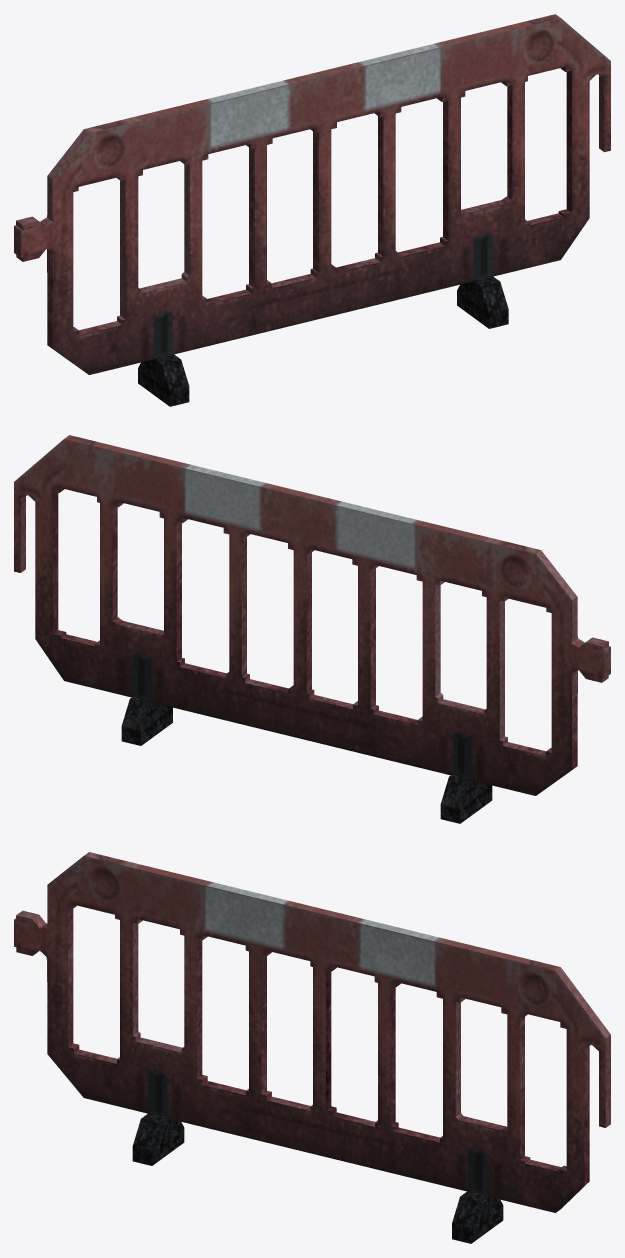
File: SM_EC_Traffic_Block_2.fbx
The picture shows the model from 3 angles, top to bottom: view 1: azimuth 30°, elevation 25°; view 2: azimuth 150°, elevation 25°; view 3: azimuth 330°, elevation 25°; orthographic projection.
Parts seen in each view (by area): view 1: SM_EC_Traffic_Block_2; view 2: SM_EC_Traffic_Block_2; view 3: SM_EC_Traffic_Block_2.
Boxes of the visible parts, x1,y1,x2,y2 form: SM_EC_Traffic_Block_2: [14, 14, 610, 406]; SM_EC_Traffic_Block_2: [14, 435, 610, 823]; SM_EC_Traffic_Block_2: [14, 852, 610, 1243].
Bounding box in the file's own units: 3.48 × 0.327 × 1.57.
